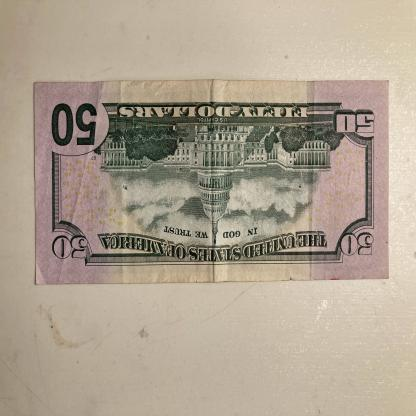fifty-back: (33, 80, 389, 285)
